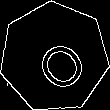O_NW: (22, 24, 87, 91)
